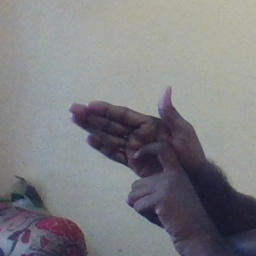R: (68, 81, 209, 220)
